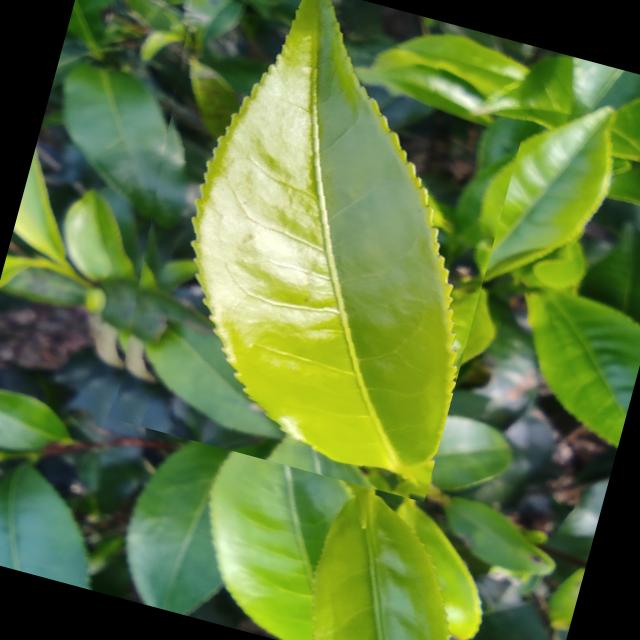Category B(2-4 days): (79, 0, 544, 502)
